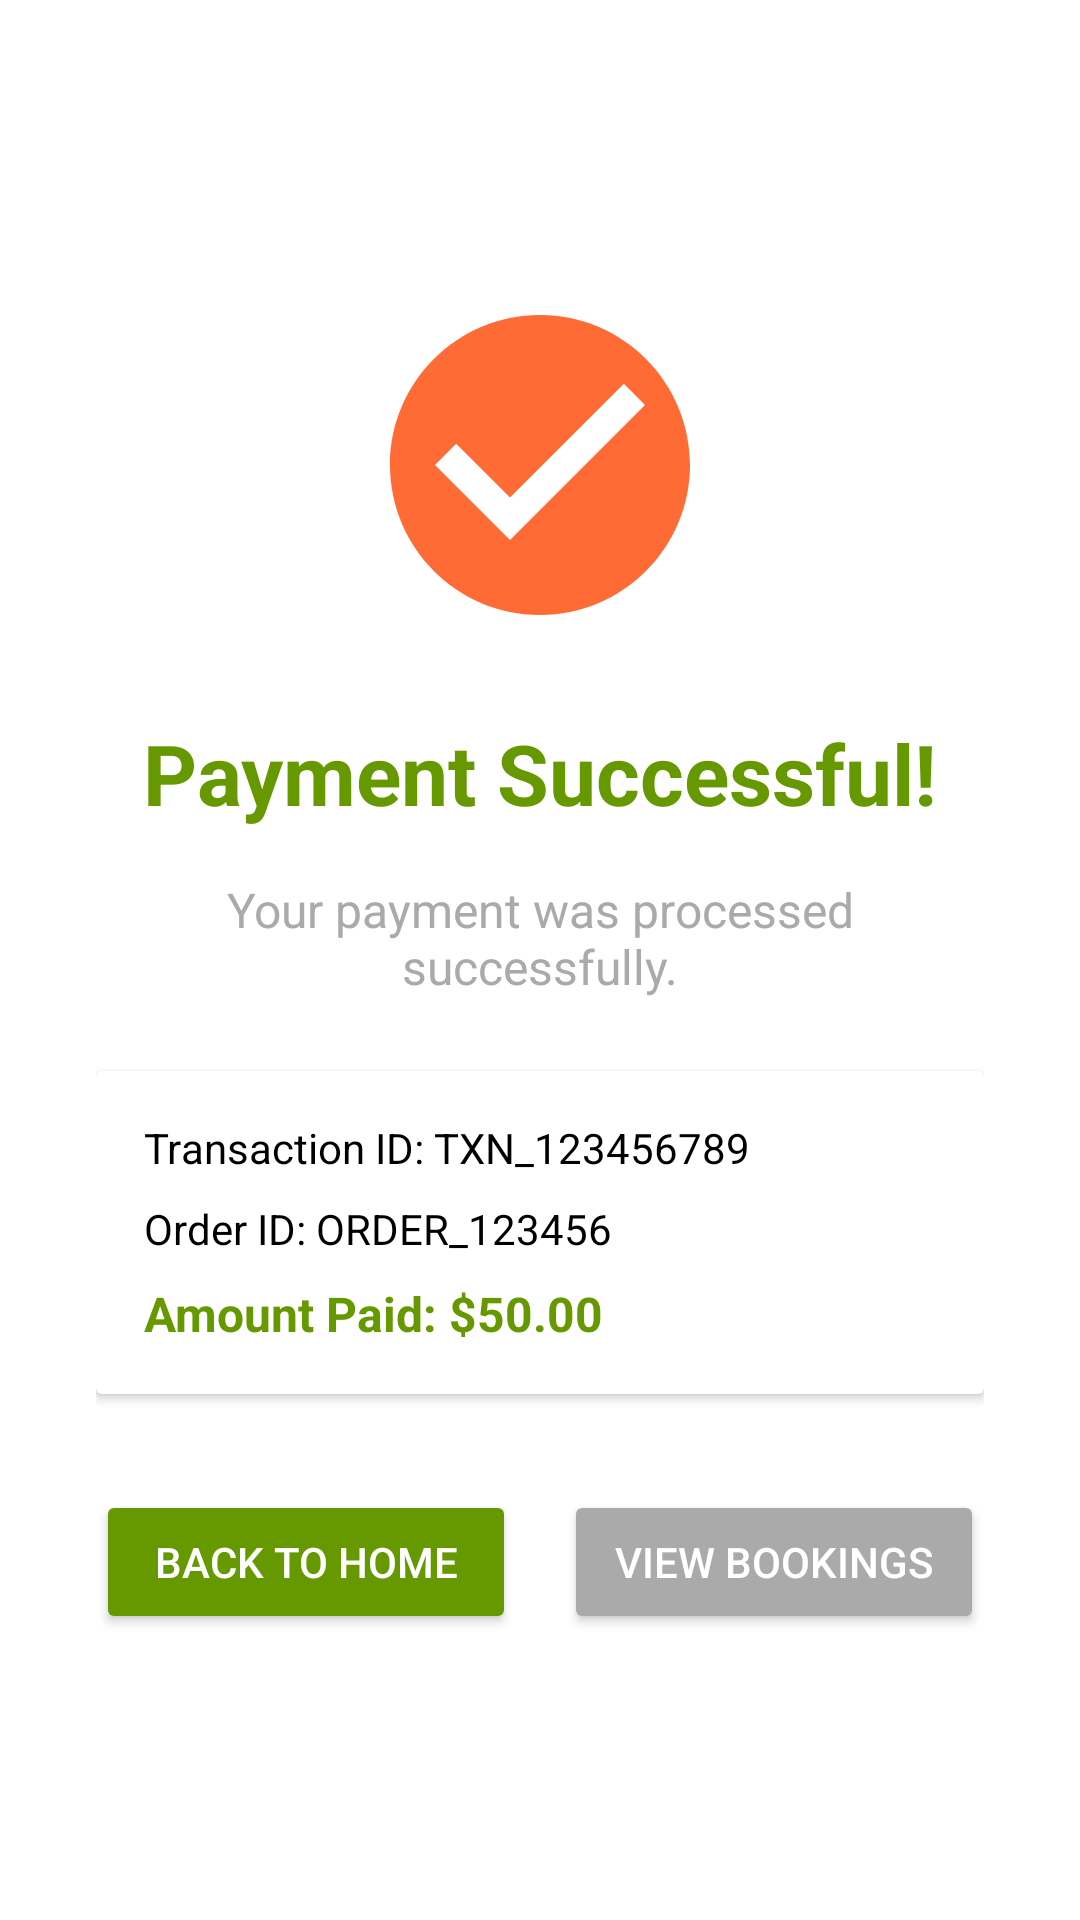

Locate icon controls on the screen. Image size 1080x1920, boxes as BBox(x1, y1, x2, y2).
Payment Success Icon: BBox(390, 315, 690, 615)
